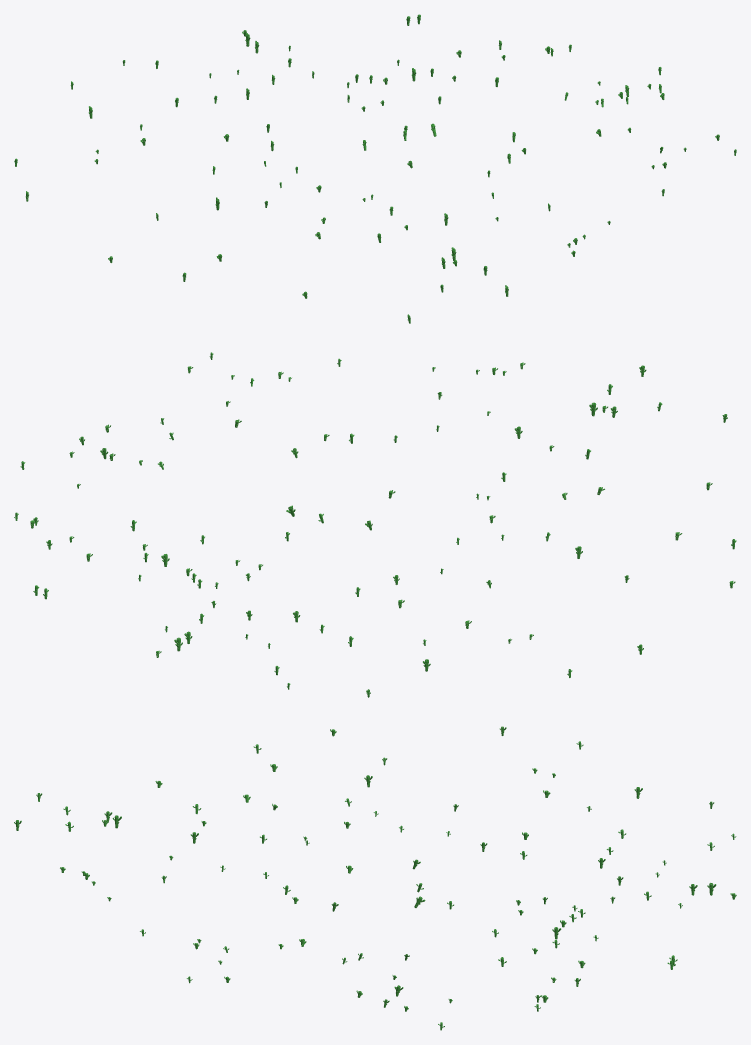
Rendered from Cacti.fbx.
The picture shows the model from 3 angles, top to bottom: view 1: azimuth 30°, elevation 25°; view 2: azimuth 150°, elevation 25°; view 3: azimuth 270°, elevation 25°; orthographic projection. The views are drawn at different scales.
Bounding box in the file's own units: 104285 × 5964 × 106836.
